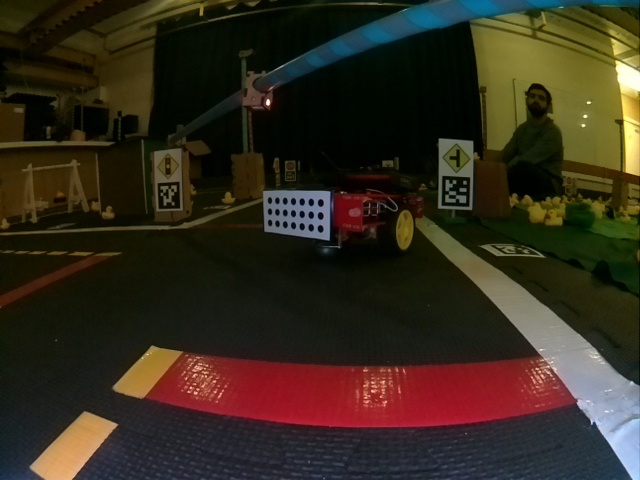Duckie: (544, 209, 563, 226)
Duckiebot: (263, 181, 422, 253)
Intersection sign: (441, 143, 472, 174)
QR code: (442, 177, 470, 208), (481, 244, 543, 257), (157, 182, 181, 210)
Signal sign: (154, 152, 181, 179)
Traffic light: (244, 71, 273, 112)
